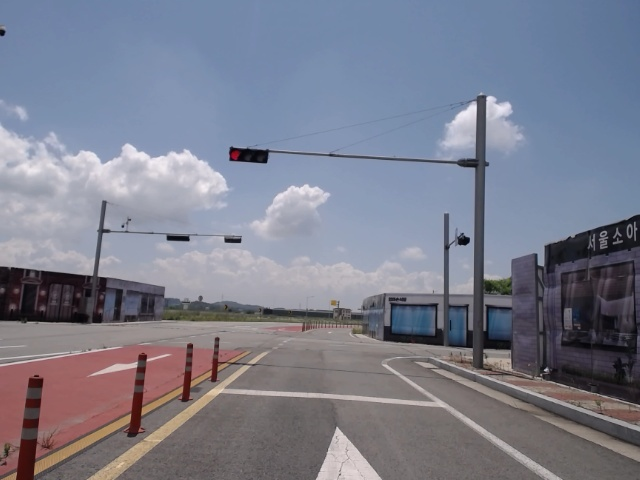red_3: (228, 145, 270, 163)
